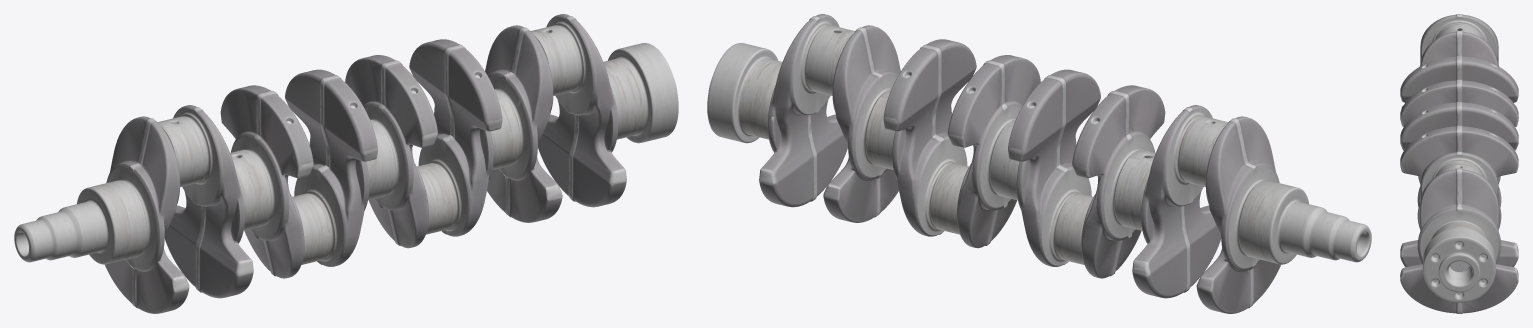
The model's file is engineComponent_crankshaft_b01.glb.
The picture shows the model from 3 angles, left to right: view 1: azimuth 30°, elevation 25°; view 2: azimuth 150°, elevation 25°; view 3: azimuth 270°, elevation 25°; orthographic projection. The views are drawn at different scales.
Parts seen in each view (by area): view 1: crankshaft_01_mesh_00; view 2: crankshaft_01_mesh_00; view 3: crankshaft_01_mesh_00.
Boxes of the visible parts, x1,y1,x2,y2 form: crankshaft_01_mesh_00: (14,14,678,313); crankshaft_01_mesh_00: (707,14,1371,313); crankshaft_01_mesh_00: (1400,14,1518,313).
Size of the model in its own units: 0.4142 by 0.1145 by 0.0878.
1 material, 1 textured.
